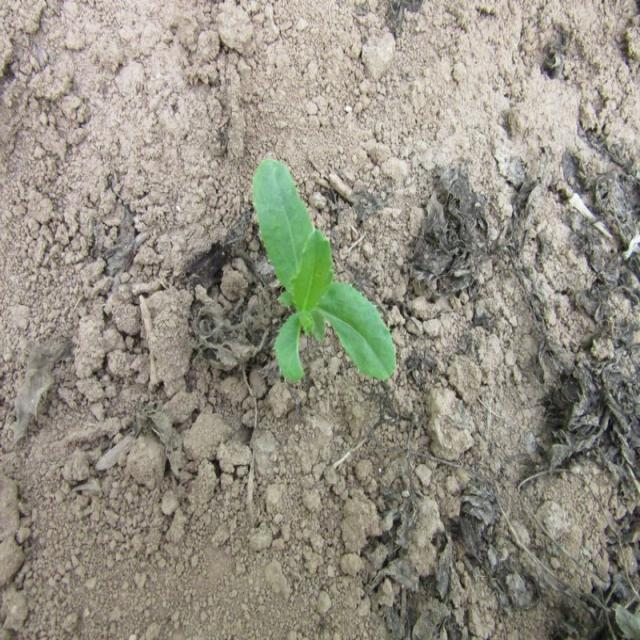cs: (248, 148, 401, 388)
